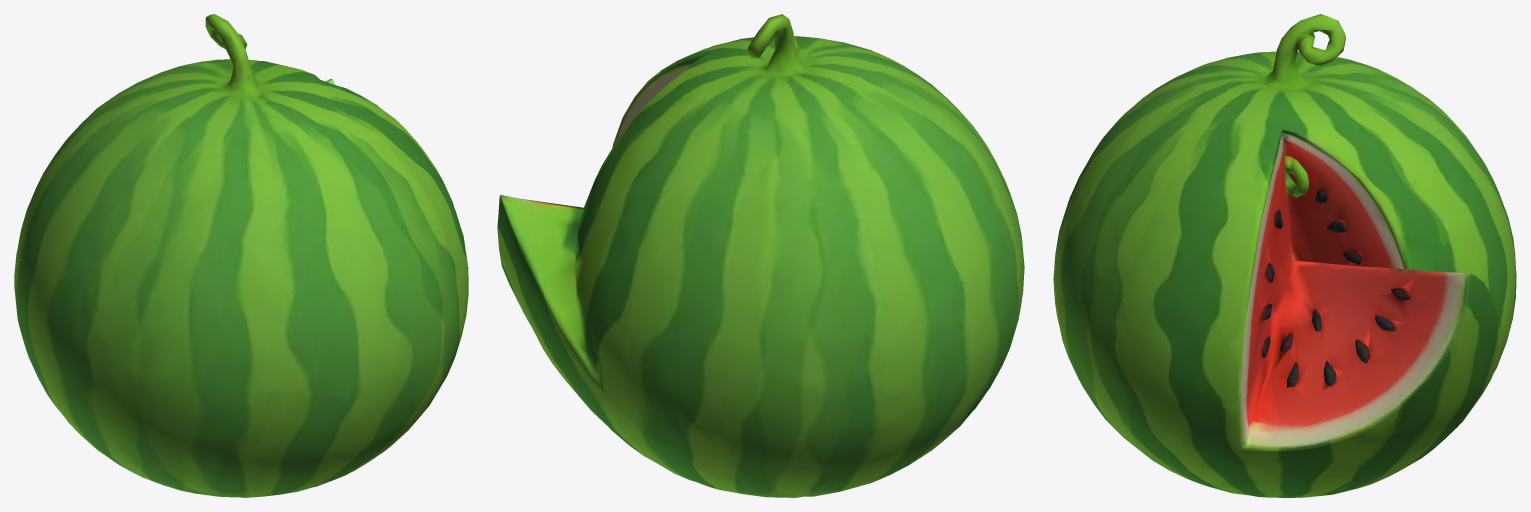
File: watermelon.glb
The picture shows the model from 3 angles, left to right: view 1: azimuth 30°, elevation 25°; view 2: azimuth 150°, elevation 25°; view 3: azimuth 270°, elevation 25°; orthographic projection. The views are drawn at different scales.
Parts seen in each view (by area): view 1: tripo_node_976c7d02-f0e1-4330-a238-6d9338b55fee; view 2: tripo_node_976c7d02-f0e1-4330-a238-6d9338b55fee; view 3: tripo_node_976c7d02-f0e1-4330-a238-6d9338b55fee.
Part boxes in pixels (x1,y1,x2,y2): tripo_node_976c7d02-f0e1-4330-a238-6d9338b55fee: (14,14,468,497); tripo_node_976c7d02-f0e1-4330-a238-6d9338b55fee: (497,14,1024,497); tripo_node_976c7d02-f0e1-4330-a238-6d9338b55fee: (1053,14,1516,497).
Bounding box in the file's own units: 0.2316 × 0.25 × 0.2343.
1 material, 1 textured.
